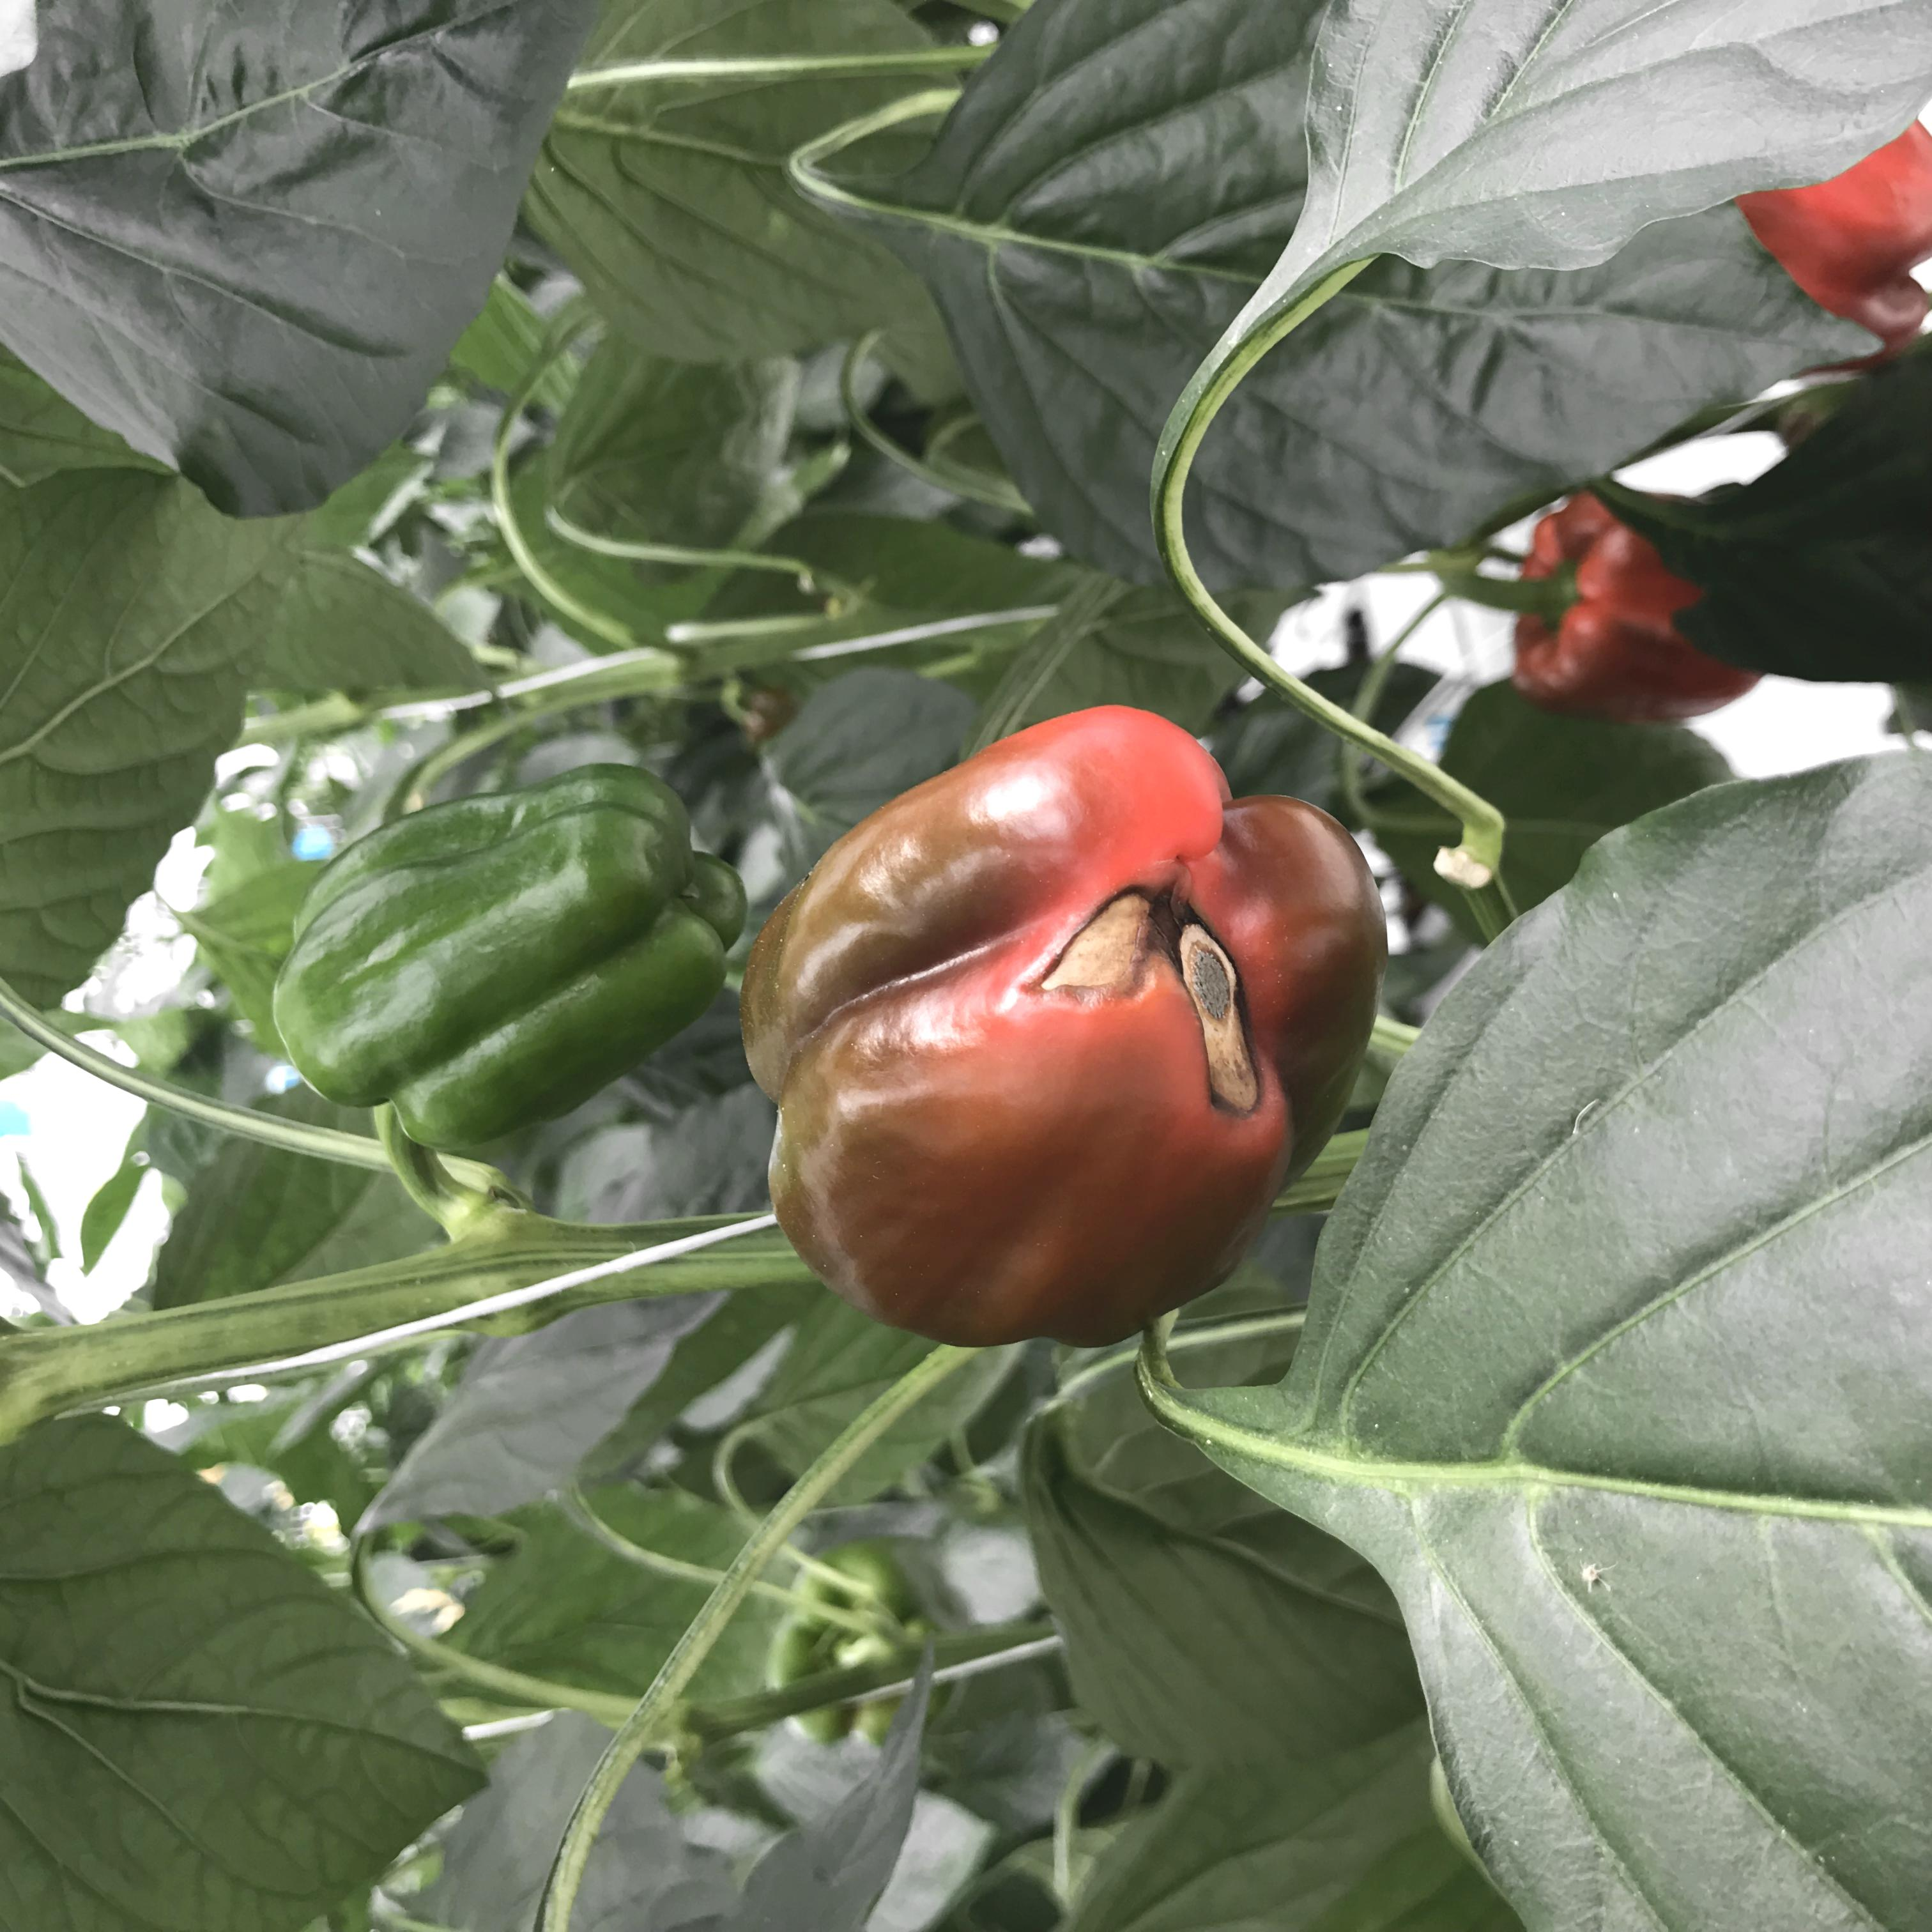blossom_end_rot: (1159, 892, 1279, 1132), (1035, 876, 1161, 1026)
